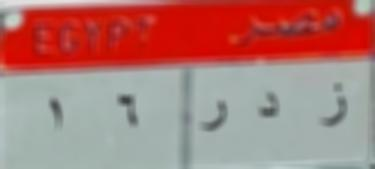1: (46, 90, 70, 138)
6: (111, 88, 146, 134)
daal: (255, 88, 285, 126)
raa: (196, 97, 230, 139)
zay: (314, 79, 354, 133)
